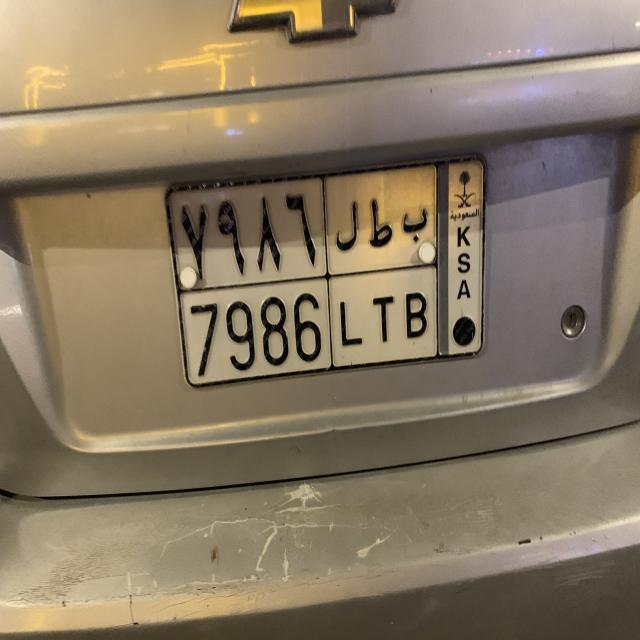license_plate: (161, 146, 493, 394)
